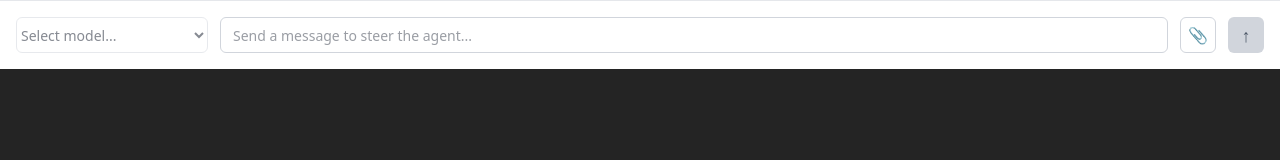
Test case: LoopActionBar › form submission › Queue button is enabled when message is entered
The width and height of the screenshot is (1280, 160).
Type "Test message" into the field with placeholder "Send a message to steer the agent..." at point(694, 35), box [220,17,1168,53]
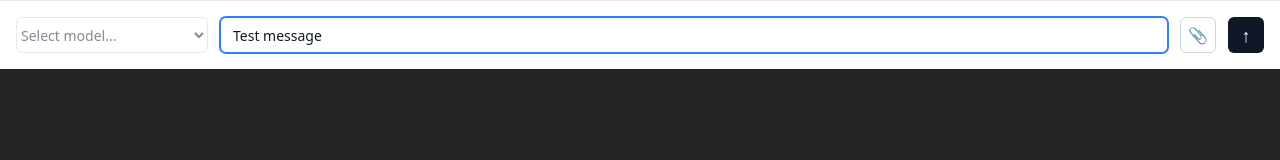
Expected: the button named "Queue" is enabled, [1228,17,1264,53]
